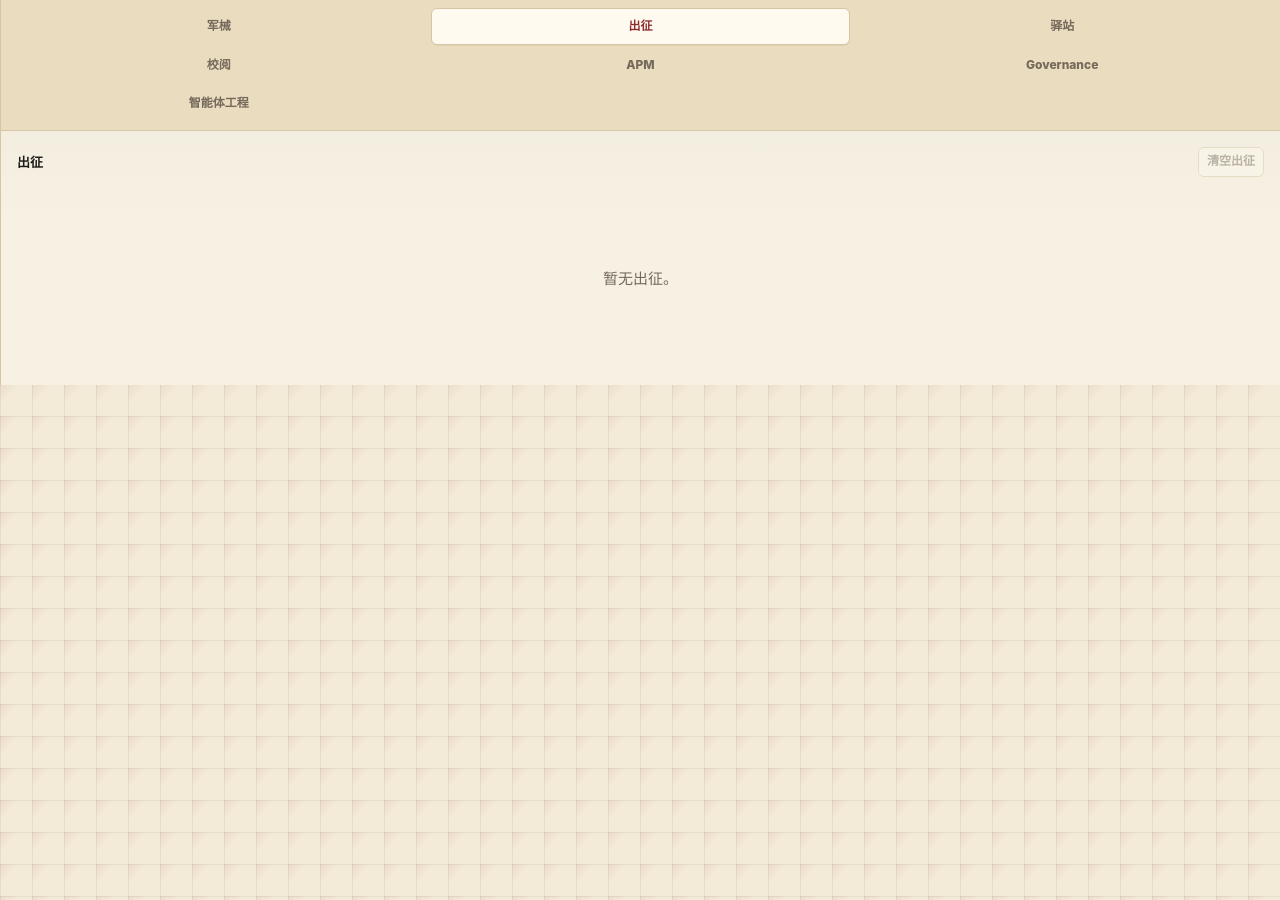
Sidebar › displays skills after loading
What coordinates should you click on to do the following:
click the tab "军械"
I would click on:
 (219, 26)
Its box is [9,8,429,45].
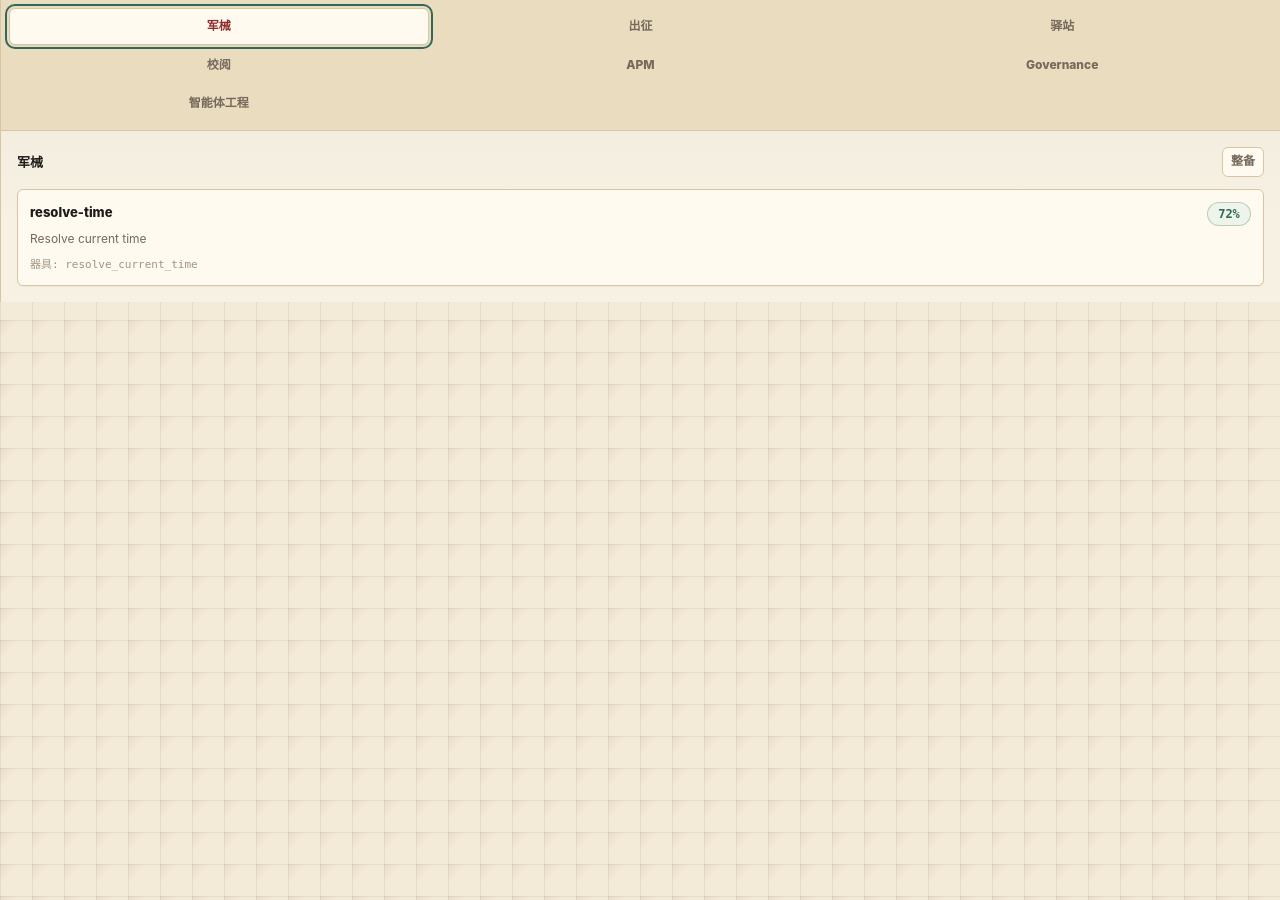
Now the text "resolve-time" is shown, box [30,202,112,222]
Now the text "Resolve current time" is shown, box [30,231,147,246]
Now the text "72%" is shown, box [1207,202,1251,226]
